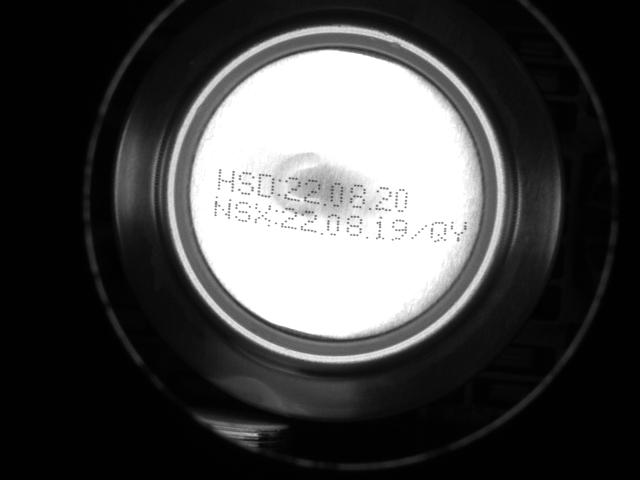.: (365, 195, 373, 211), (321, 193, 328, 207), (317, 222, 324, 236), (363, 227, 370, 241)
/: (410, 223, 429, 244)
0: (329, 182, 345, 209), (325, 211, 341, 238), (393, 187, 409, 214)
1: (372, 214, 387, 241)
2: (284, 176, 301, 203), (303, 177, 320, 204), (280, 204, 297, 231), (299, 207, 316, 234)
8: (348, 182, 367, 210), (344, 210, 363, 238)
9: (390, 217, 409, 243)
:: (276, 177, 283, 198), (272, 205, 279, 226)
D: (256, 171, 275, 200)
H: (216, 165, 236, 194)
N: (213, 194, 231, 220)
Q: (429, 220, 449, 245)
S: (237, 170, 256, 197), (233, 197, 252, 224)
X: (253, 201, 273, 229)
Y: (448, 217, 470, 242)
